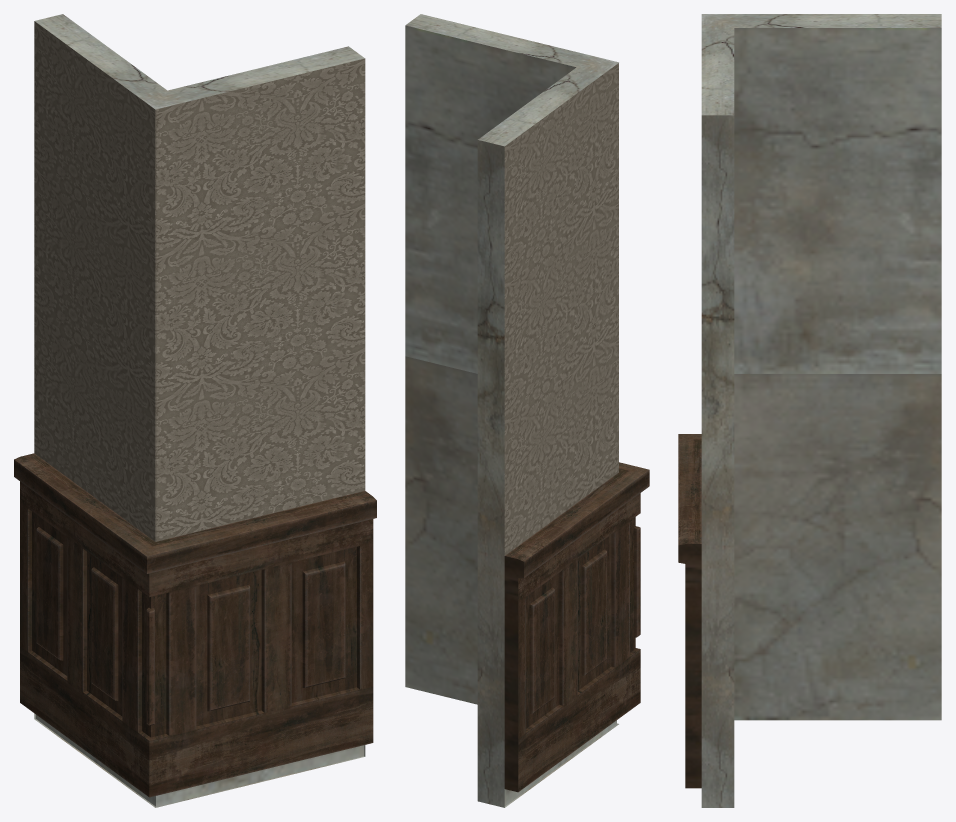
The model's file is R3_Wall_Cornor.fbx.
The picture shows the model from 3 angles, left to right: view 1: azimuth 30°, elevation 25°; view 2: azimuth 150°, elevation 25°; view 3: azimuth 270°, elevation 25°; orthographic projection. The views are drawn at different scales.
Visible parts, largest first — view 1: SM_WallCorner_LOD0; view 2: SM_WallCorner_LOD0; view 3: SM_WallCorner_LOD0.
Boxes of the visible parts, box(x1,y1,x2,y2) form: SM_WallCorner_LOD0: box(14, 14, 376, 807); SM_WallCorner_LOD0: box(405, 14, 649, 807); SM_WallCorner_LOD0: box(678, 14, 941, 807).
Size of the model in its own units: 121 by 350 by 121.
